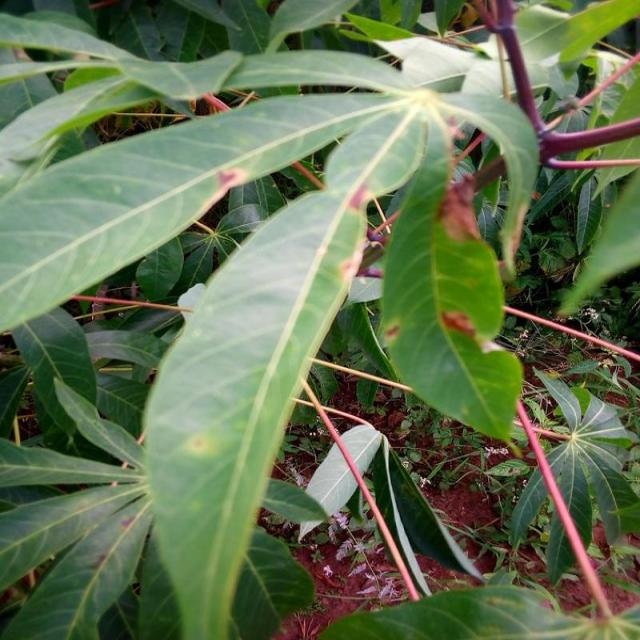cassava leaf: (1, 2, 636, 637), (142, 184, 368, 638), (378, 101, 524, 443)
